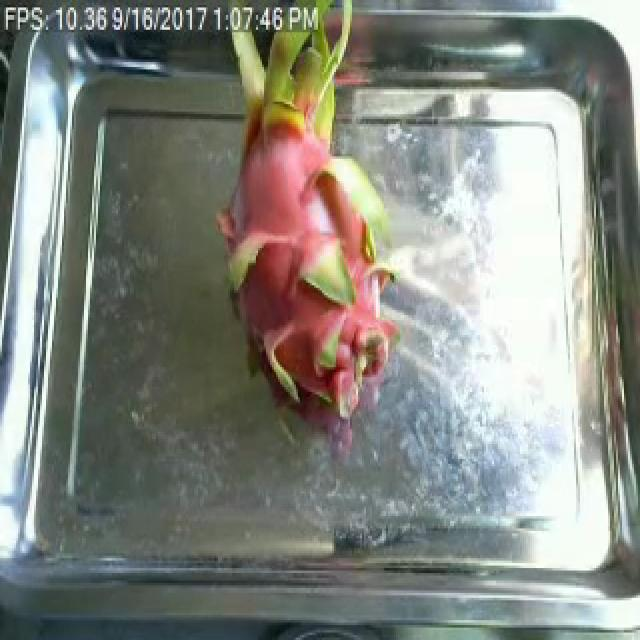fruit: (208, 5, 426, 432)
